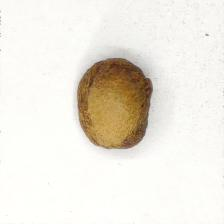NG: (135, 97, 151, 139)
